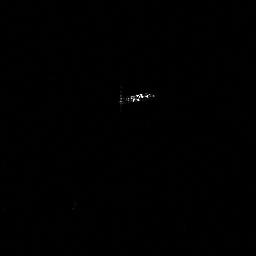ship: (116, 89, 158, 110)
